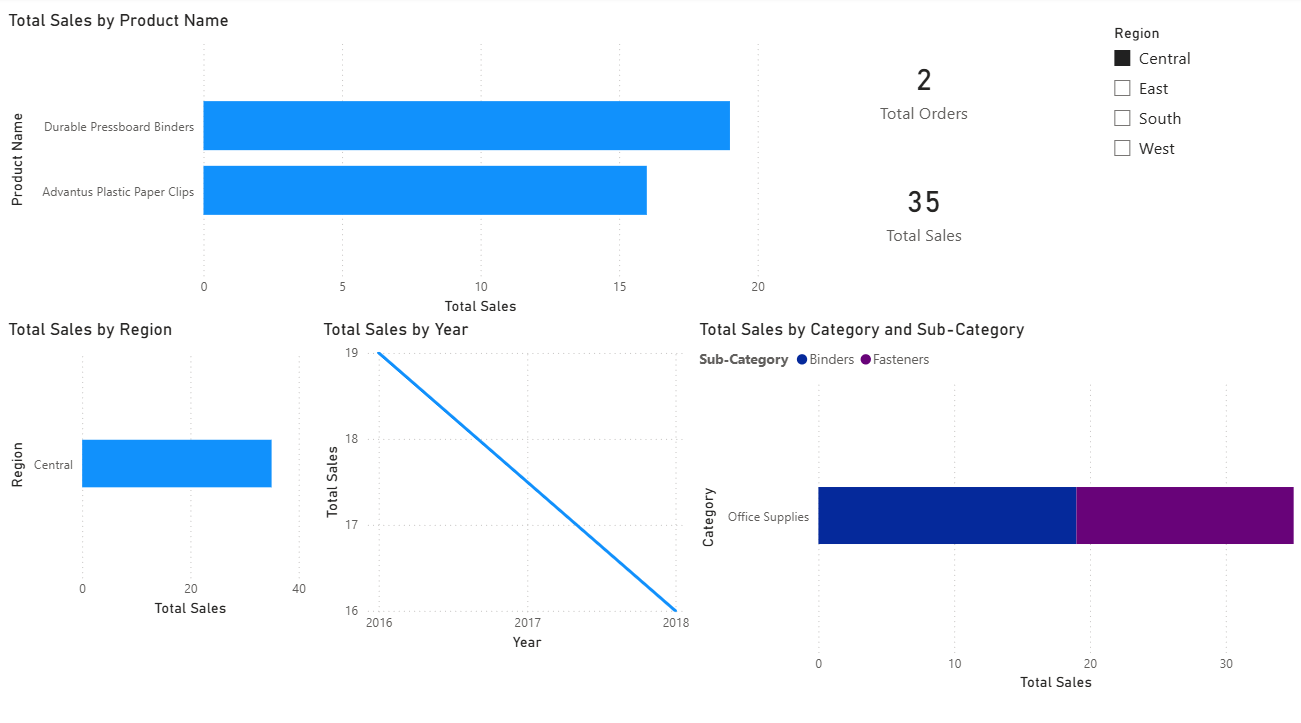

The dashboard page shown, as its layout file describes it:
{"tool":"powerbi","page":{"name":"Page 1","canvas":[1280,720],"ordinal":0},"visuals":[{"type":"card","fields":{"Values":["train (2).Total Orders"]},"box":[758.7,29.2,299.6,118.7],"z":0},{"type":"card","fields":{"Values":["train (2).Total Revenue"]},"box":[758.7,147.8,299.6,118.7],"z":1000},{"type":"lineChart","fields":{"Category":["train (2).Order Date.Variation.Date Hierarchy.Year","train (2).Order Date.Variation.Date Hierarchy.Quarter","train (2).Order Date.Variation.Date Hierarchy.Month","train (2).Order Date.Variation.Date Hierarchy.Day"],"Y":["train (2).Total Revenue"]},"box":[319,313.2,365.7,326.8],"z":2000},{"type":"barChart","fields":{"Category":["train (2).Region"],"Y":["train (2).Total Revenue"]},"box":[12.6,313.2,299.6,293.7],"z":3000},{"type":"barChart","fields":{"Category":["train (2).Product Name"],"Y":["train (2).Total Revenue"]},"box":[12.6,12.6,746,300.5],"z":4000},{"type":"slicer","fields":{"Values":["train (2).Region"]},"box":[1080.6,21.4,199.4,291.8],"z":5000},{"type":"barChart","fields":{"Category":["train (2).Category"],"Y":["train (2).Total Revenue"],"Series":["train (2).Sub-Category"]},"box":[684.7,313.2,595.3,366.7],"z":6000}]}

Visuals, with their boxes in screenshot pixels (x1, y1, x2, y2), scaled from the page's 1280x720 canvas onto the 1301x723 screenshot:
card - train (2).Total Orders: select_region(771, 29, 1076, 149)
card - train (2).Total Revenue: select_region(771, 148, 1076, 268)
lineChart - train (2).Order Date.Variation.Date Hierarchy.Year x train (2).Order Date.Variation.Date Hierarchy.Quarter: select_region(324, 315, 696, 643)
barChart - train (2).Region x train (2).Total Revenue: select_region(13, 315, 317, 609)
barChart - train (2).Product Name x train (2).Total Revenue: select_region(13, 13, 771, 314)
slicer - train (2).Region: select_region(1098, 21, 1300, 315)
barChart - train (2).Category x train (2).Total Revenue: select_region(696, 315, 1300, 683)
